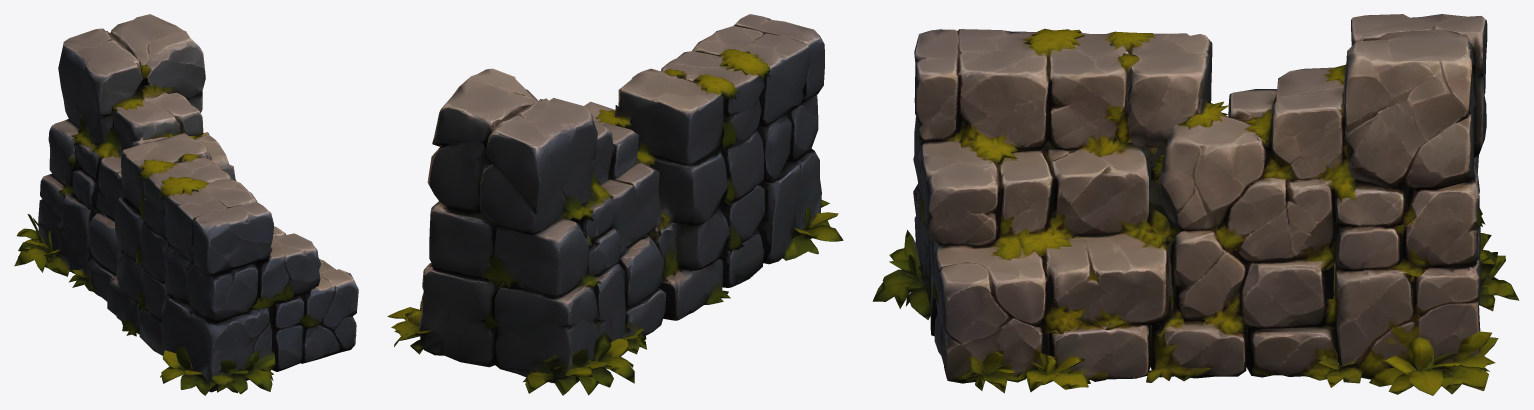
Rendered from wall.glb.
3 views of the same model, side by side, from view 1: azimuth 30°, elevation 25°; view 2: azimuth 150°, elevation 25°; view 3: azimuth 270°, elevation 25° (orthographic). The views are drawn at different scales.
Parts seen in each view (by area): view 1: tripo_node_77d040f9-b7df-4ff3-a170-73e8b21482e4; view 2: tripo_node_77d040f9-b7df-4ff3-a170-73e8b21482e4; view 3: tripo_node_77d040f9-b7df-4ff3-a170-73e8b21482e4.
Boxes of the visible parts, x1,y1,x2,y2 form: tripo_node_77d040f9-b7df-4ff3-a170-73e8b21482e4: (14,14,358,395); tripo_node_77d040f9-b7df-4ff3-a170-73e8b21482e4: (387,14,843,395); tripo_node_77d040f9-b7df-4ff3-a170-73e8b21482e4: (872,14,1519,395).
Bounding box in the file's own units: 0.5798 × 0.541 × 1.
Materials: 1 (1 with a texture image).
